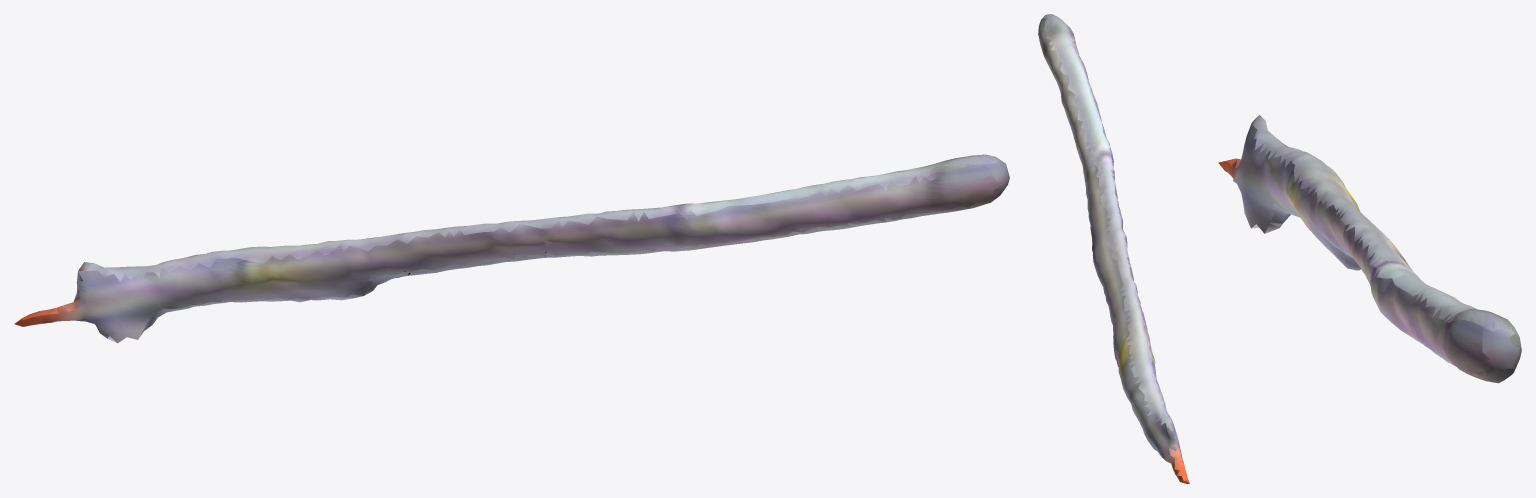
File: rocket_00002_.glb
3 renders of one model, left to right at view 1: azimuth 30°, elevation 25°; view 2: azimuth 150°, elevation 25°; view 3: azimuth 330°, elevation 25°, orthographic. The views are drawn at different scales.
Visible parts, largest first — view 1: world; view 2: world; view 3: world.
Part boxes in pixels (bbox=[...]): world: bbox=[14, 154, 1009, 343]; world: bbox=[1038, 14, 1189, 483]; world: bbox=[1218, 115, 1521, 383].
Bounding box in the file's own units: 0.5708 × 0.2744 × 0.6314.
Materials: 1 (1 with a texture image).
